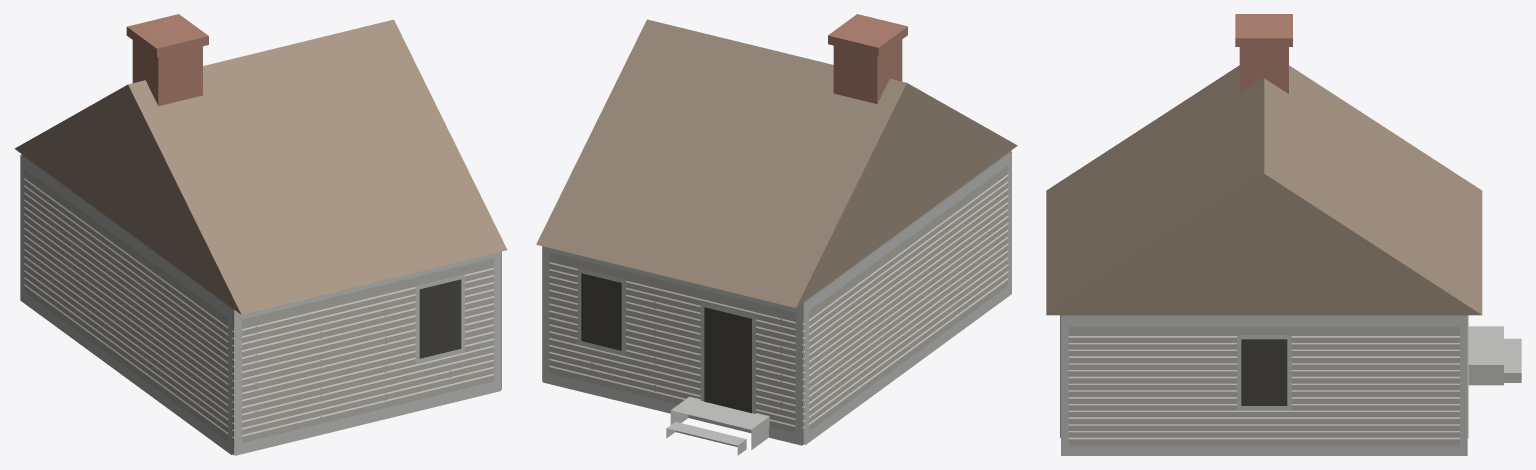
The model's file is recon_1835_blk_randolph_clinton_d3_04__inferred_1835.glb.
3 views of the same model, side by side, from view 1: azimuth 30°, elevation 25°; view 2: azimuth 150°, elevation 25°; view 3: azimuth 270°, elevation 25° (orthographic). The views are drawn at different scales.
Visible parts, largest first — view 1: recon_1835_blk_randolph_clinton_d3_04__inferred_1835; view 2: recon_1835_blk_randolph_clinton_d3_04__inferred_1835; view 3: recon_1835_blk_randolph_clinton_d3_04__inferred_1835.
Part boxes in pixels (left/top/right/bottom): recon_1835_blk_randolph_clinton_d3_04__inferred_1835: left=14, top=14, right=507, bottom=455; recon_1835_blk_randolph_clinton_d3_04__inferred_1835: left=536, top=14, right=1017, bottom=455; recon_1835_blk_randolph_clinton_d3_04__inferred_1835: left=1046, top=14, right=1521, bottom=455.
Size of the model in its own units: 5.09 by 6.06 by 8.08.
